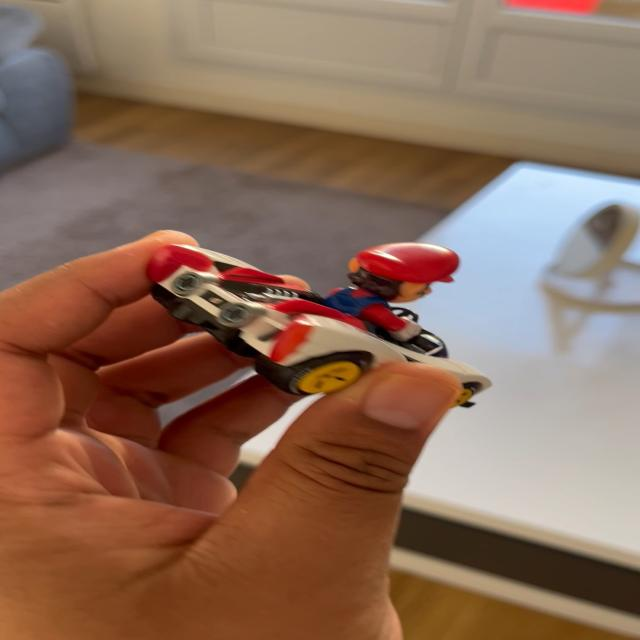mario: (134, 229, 524, 394)
